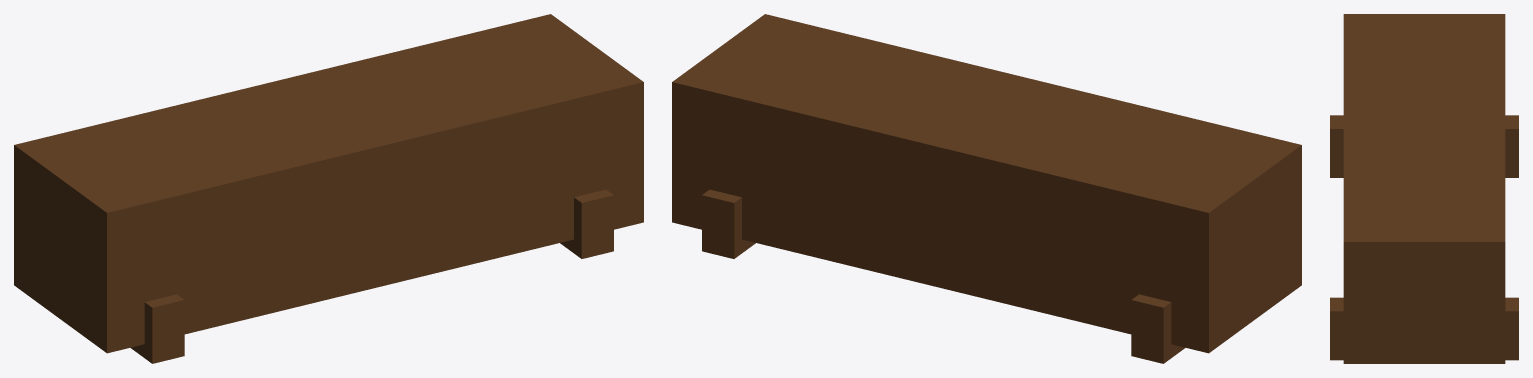
The model's file is Prop_OR_Trough_04.glb.
The picture shows the model from 3 angles, left to right: view 1: azimuth 30°, elevation 25°; view 2: azimuth 150°, elevation 25°; view 3: azimuth 270°, elevation 25°; orthographic projection. The views are drawn at different scales.
Visible parts, largest first — view 1: Prop_OR_Trough_04; view 2: Prop_OR_Trough_04; view 3: Prop_OR_Trough_04.
Part boxes in pixels (<box>): Prop_OR_Trough_04: <box>14,14,643,363</box>; Prop_OR_Trough_04: <box>672,14,1301,363</box>; Prop_OR_Trough_04: <box>1330,14,1518,363</box>.
Bounding box in the file's own units: 2 × 0.55 × 0.7.
